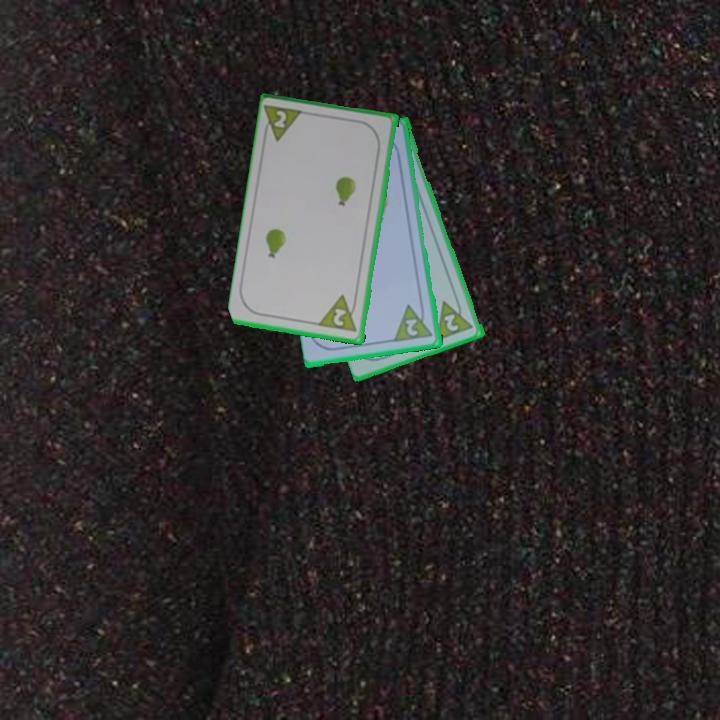2p: (259, 102, 308, 145), (317, 292, 361, 335), (441, 310, 462, 335), (402, 316, 421, 339)
